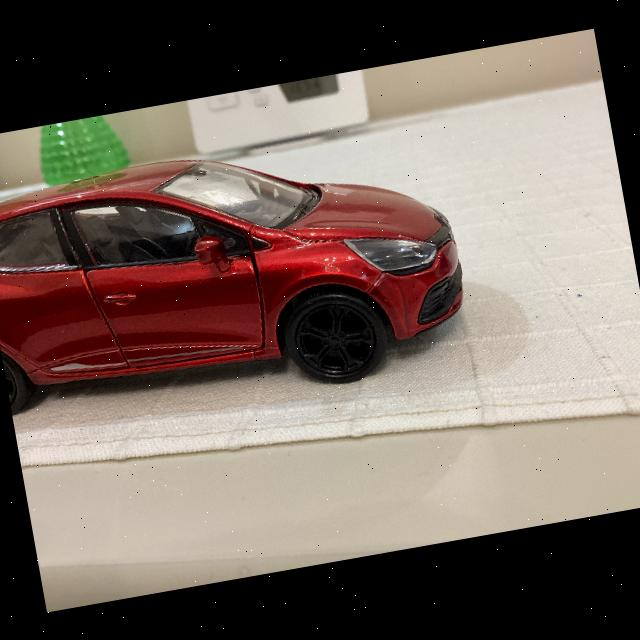Dogru_Jant: (292, 296, 378, 378)
